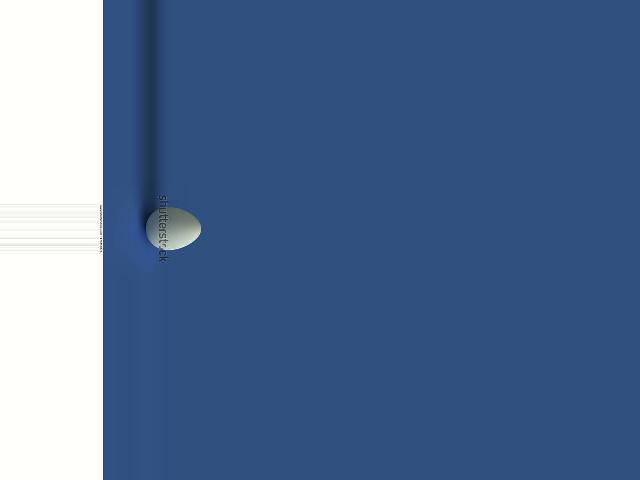egg: (145, 207, 201, 250)
